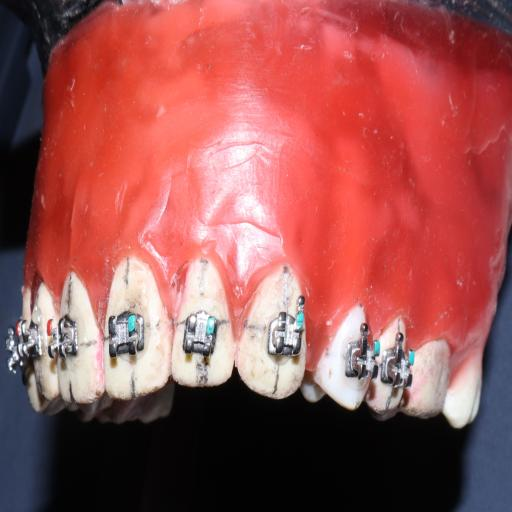incorrect_brace: (172, 260, 236, 392), (264, 308, 303, 362), (183, 308, 217, 362)
